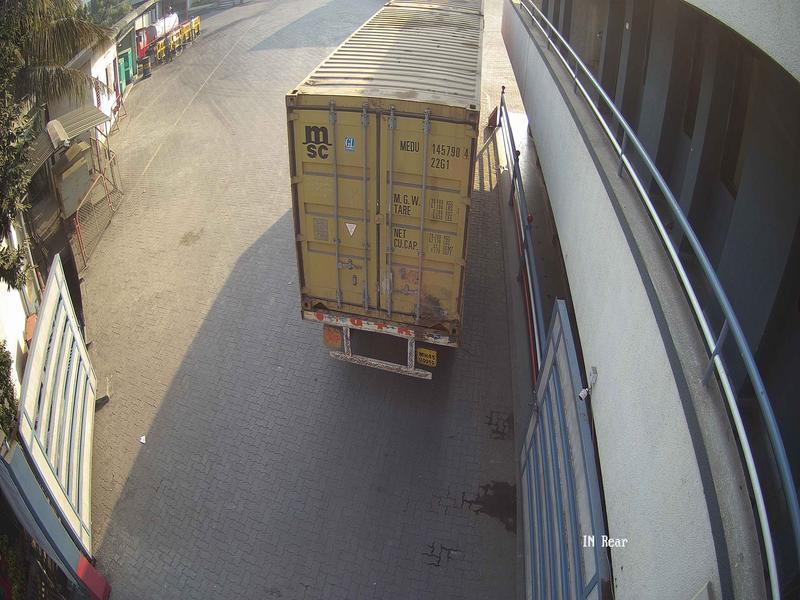container: (278, 86, 484, 335)
